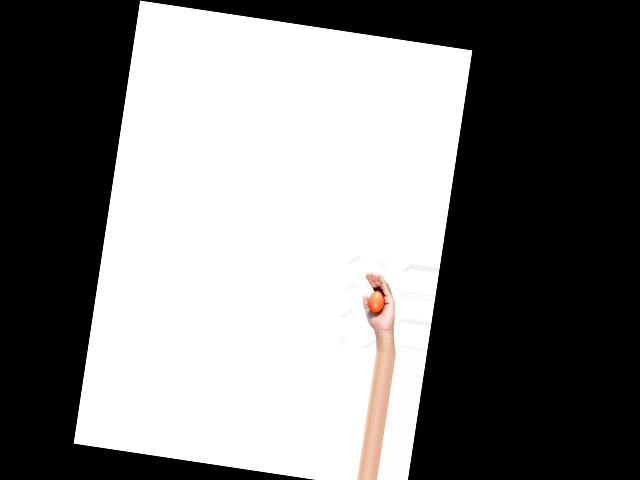egg: (367, 290, 386, 313)
